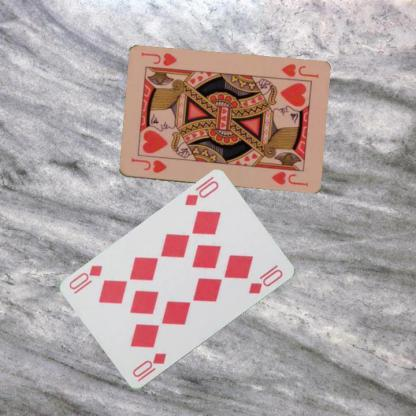10d: (130, 351, 168, 383), (182, 178, 220, 207)
Jh: (274, 61, 320, 83), (128, 155, 168, 174)
